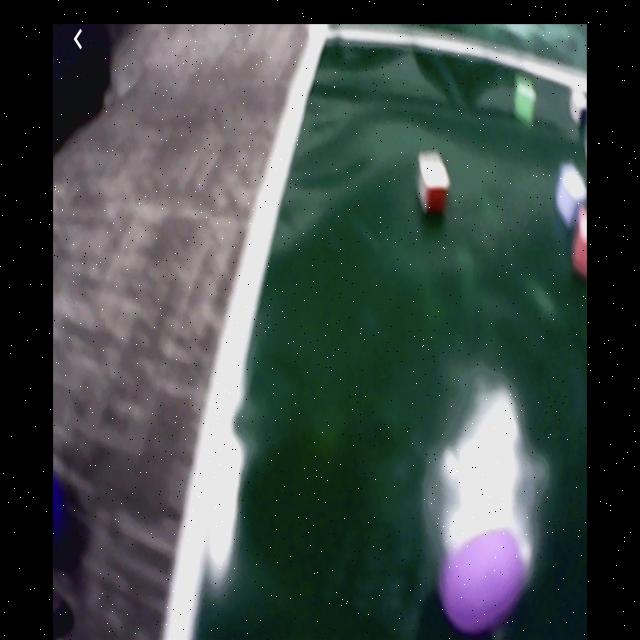ball: (441, 526, 525, 631), (54, 474, 68, 543)
